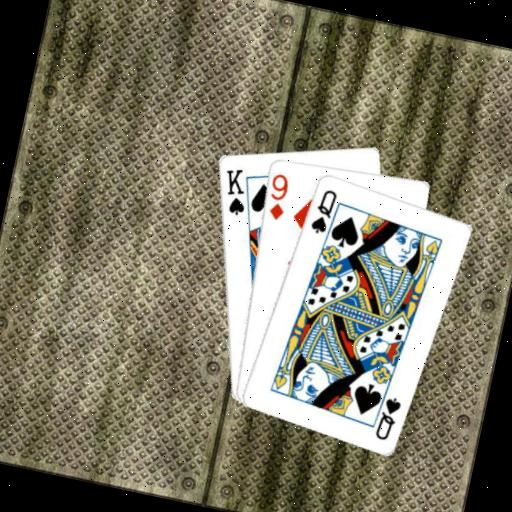9D: (261, 168, 293, 222)
KS: (214, 162, 254, 218)
QS: (306, 183, 339, 237), (370, 391, 404, 443)
